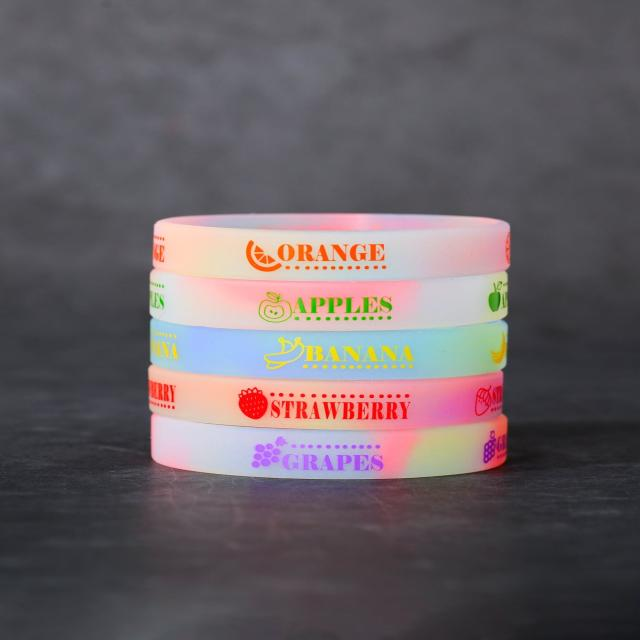bracelet: (70, 175, 624, 515)
